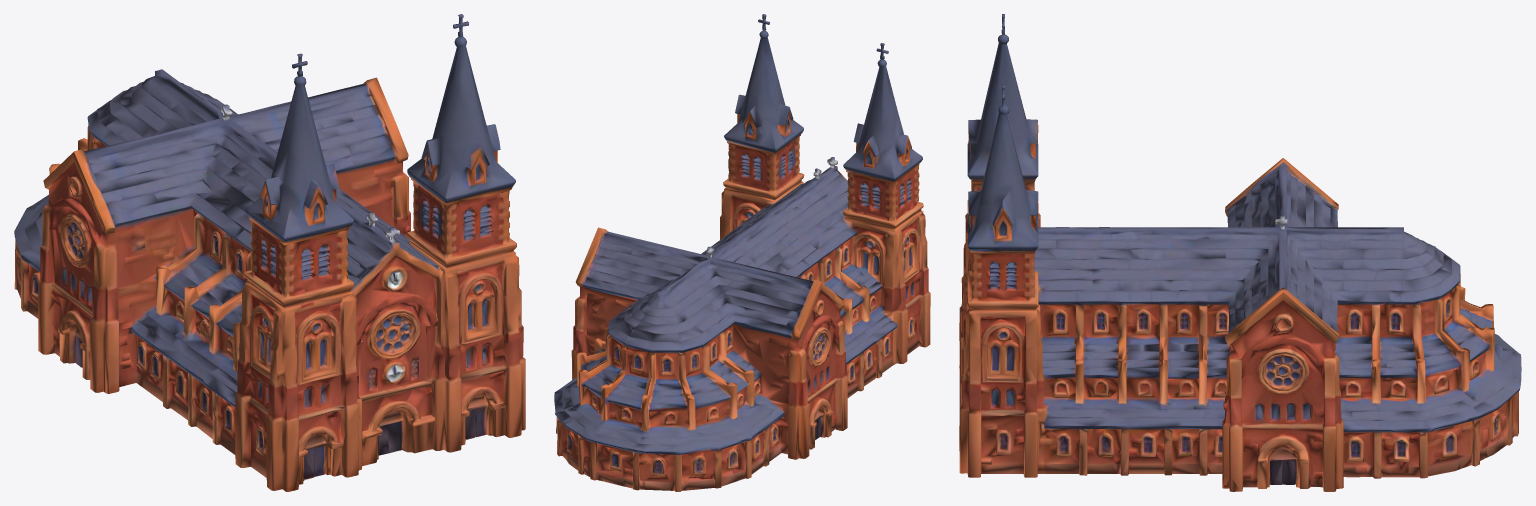
File: nha-tho-duc-ba.glb
3 renders of one model, left to right at view 1: azimuth 30°, elevation 25°; view 2: azimuth 150°, elevation 25°; view 3: azimuth 270°, elevation 25°, orthographic. The views are drawn at different scales.
Parts seen in each view (by area): view 1: tripo_node_af3417fb-c5a6-449d-8a17-b6f32f0466fc; view 2: tripo_node_af3417fb-c5a6-449d-8a17-b6f32f0466fc; view 3: tripo_node_af3417fb-c5a6-449d-8a17-b6f32f0466fc.
Part boxes in pixels (x1,y1,x2,y2): tripo_node_af3417fb-c5a6-449d-8a17-b6f32f0466fc: (14, 14, 525, 491); tripo_node_af3417fb-c5a6-449d-8a17-b6f32f0466fc: (554, 14, 930, 491); tripo_node_af3417fb-c5a6-449d-8a17-b6f32f0466fc: (959, 14, 1521, 491).
Size of the model in its own units: 0.579 by 0.7174 by 0.9807.
Materials: 1 (1 with a texture image).
